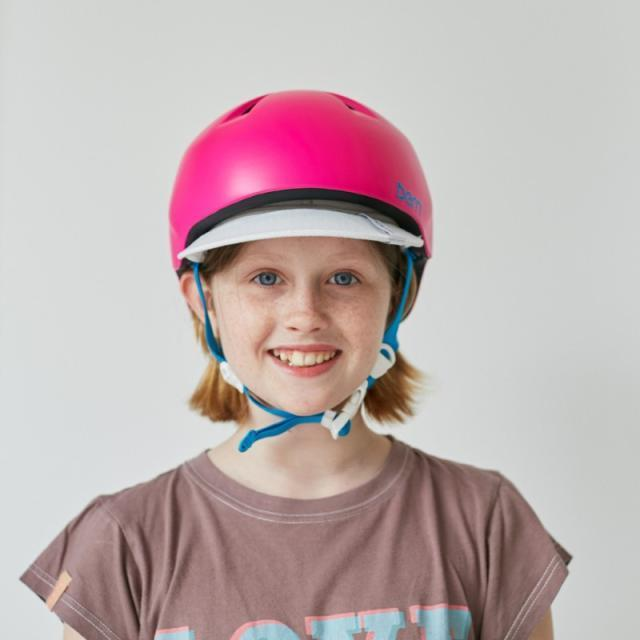with_helmet: (169, 87, 433, 424)
